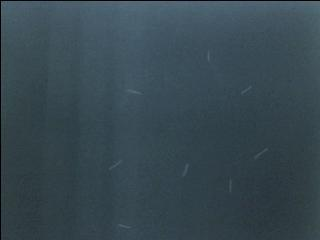scratch: (176, 160, 196, 182), (236, 81, 258, 99), (249, 144, 271, 162), (107, 158, 126, 175), (123, 85, 147, 98), (224, 174, 238, 196), (114, 219, 134, 234), (201, 47, 217, 65)
